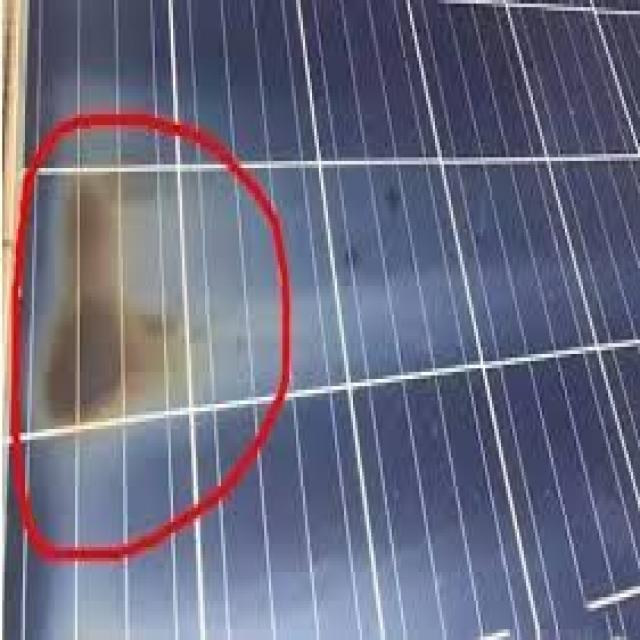faulty: (2, 8, 548, 631)
